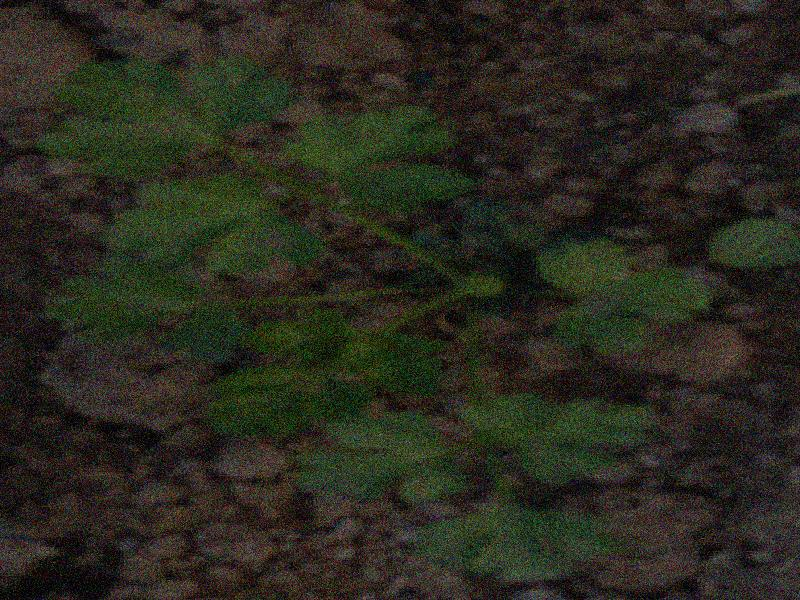radish: (0, 61, 800, 577)
